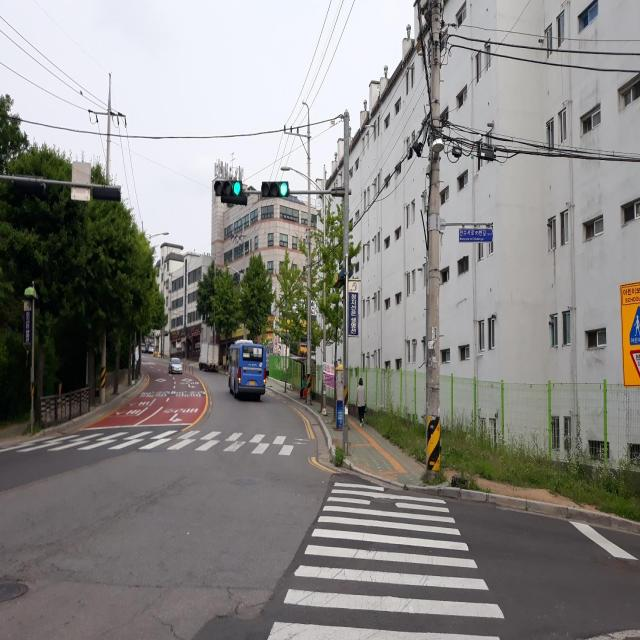횡단보도: (266, 479, 506, 639), (0, 423, 308, 459)
